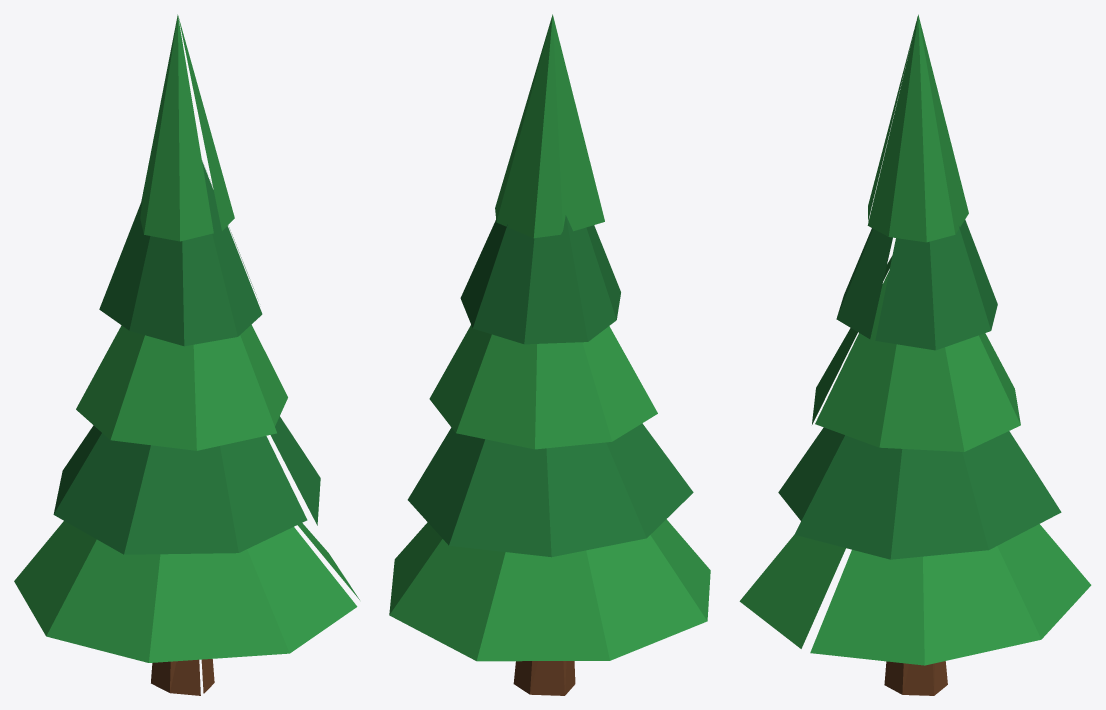
The model's file is pino_alto_v1.glb.
3 views of the same model, side by side, from view 1: azimuth 30°, elevation 25°; view 2: azimuth 150°, elevation 25°; view 3: azimuth 270°, elevation 25° (orthographic).
Visible parts, largest first — view 1: copa_1, copa_2, copa_3, copa_4, copa_5, tronco; view 2: copa_1, copa_2, copa_3, copa_4, copa_5, tronco; view 3: copa_1, copa_2, copa_3, copa_4, copa_5, tronco.
Part boxes in pixels (box(x1,y1,x2,y2)): copa_1: box(14, 521, 359, 662); copa_2: box(53, 416, 320, 554); copa_3: box(76, 325, 287, 450); copa_4: box(99, 160, 262, 346); copa_5: box(140, 14, 234, 241); tronco: box(151, 659, 214, 695); copa_1: box(389, 519, 710, 661); copa_2: box(407, 423, 693, 557); copa_3: box(429, 325, 657, 449); copa_4: box(460, 215, 620, 344); copa_5: box(495, 14, 604, 238); tronco: box(513, 661, 575, 695); copa_1: box(739, 524, 1091, 665); copa_2: box(778, 427, 1061, 559); copa_3: box(812, 256, 1020, 451); copa_4: box(836, 219, 997, 350); copa_5: box(867, 14, 968, 242); tronco: box(884, 661, 947, 695).
Size of the model in its own units: 3.43 by 7.38 by 3.53.
